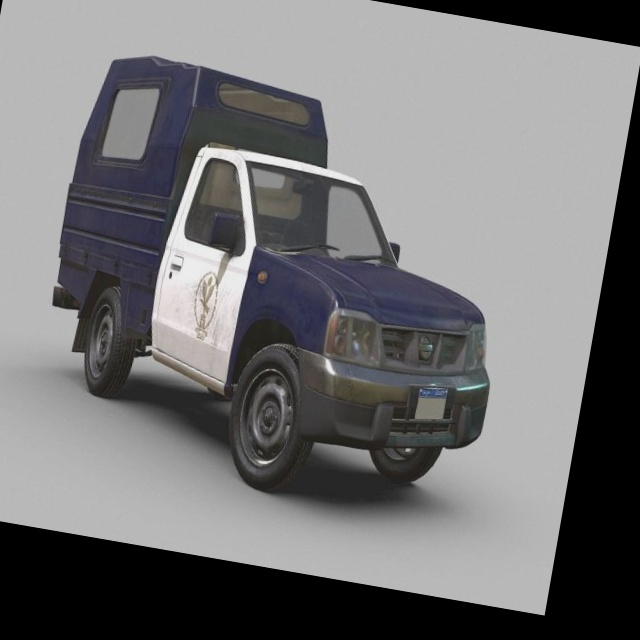police-car: (23, 44, 537, 527)
